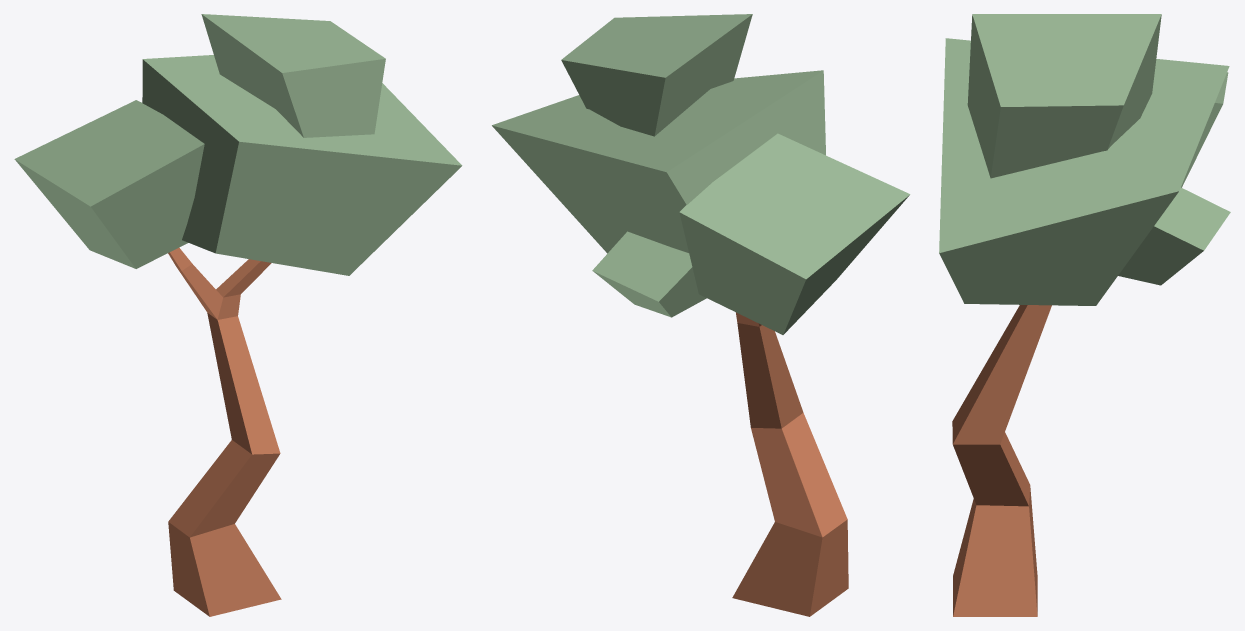
File: Tree2.fbx
3 views of the same model, side by side, from view 1: azimuth 30°, elevation 25°; view 2: azimuth 150°, elevation 25°; view 3: azimuth 270°, elevation 25° (orthographic). The views are drawn at different scales.
Parts seen in each view (by area): view 1: Tree2; view 2: Tree2; view 3: Tree2.
Boxes of the visible parts, x1,y1,x2,y2 form: Tree2: (14, 14, 462, 616); Tree2: (492, 14, 910, 616); Tree2: (939, 14, 1230, 616).
Bounding box in the file's own units: 689 × 1018 × 443.
